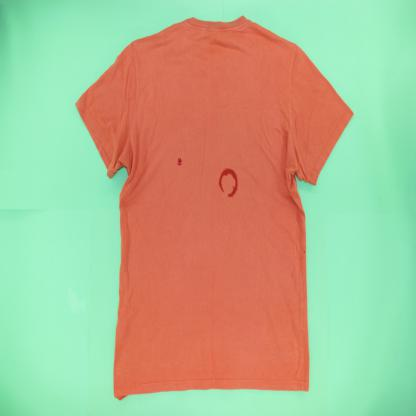stain: (218, 166, 240, 199), (176, 156, 183, 168)
